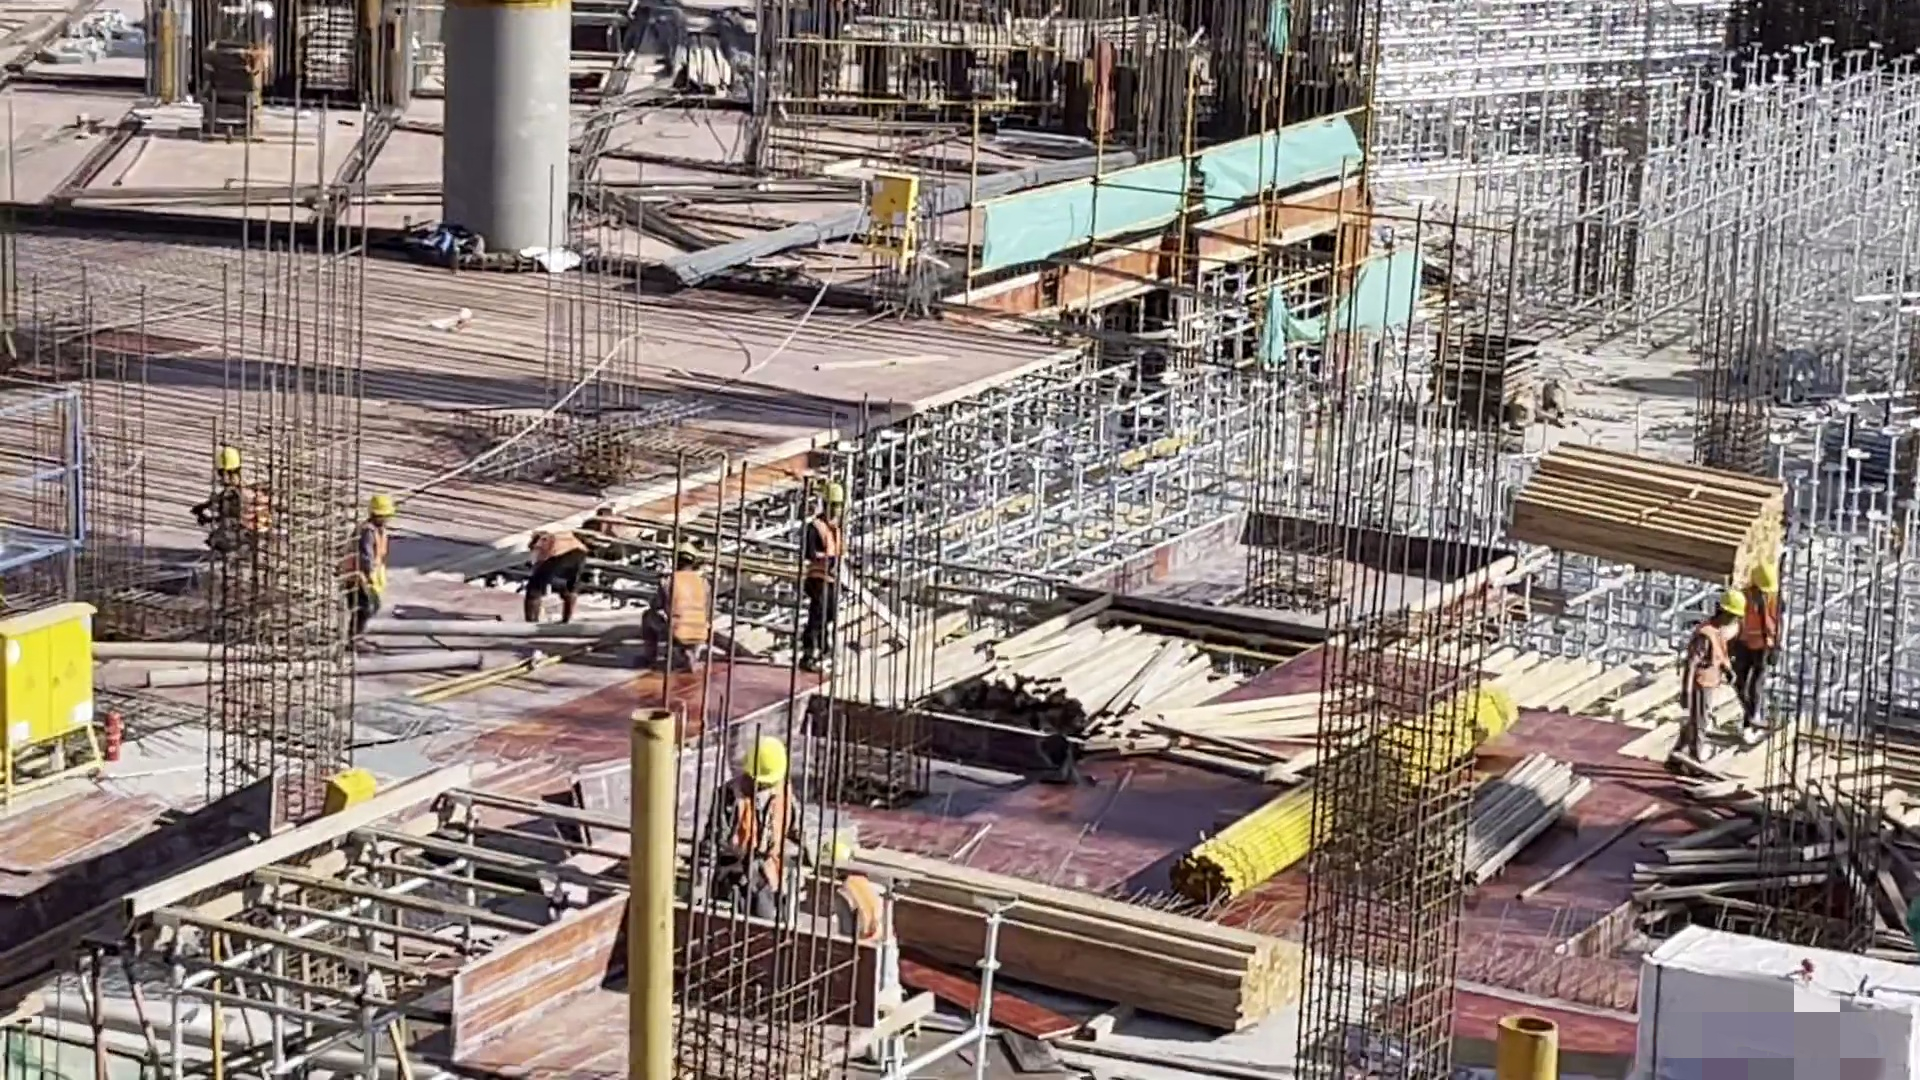ebox: (16, 623, 118, 756), (855, 163, 923, 292)
helmet: (726, 723, 801, 789), (207, 430, 248, 477), (365, 483, 405, 523), (821, 469, 856, 514), (1750, 561, 1786, 592), (670, 533, 704, 560), (1714, 581, 1741, 616)
person: (799, 832, 912, 1012), (724, 737, 813, 946), (646, 539, 730, 680), (1668, 594, 1729, 775), (197, 450, 273, 584), (792, 483, 853, 642), (324, 501, 400, 626), (520, 524, 585, 629), (1741, 554, 1776, 745)
vest: (722, 788, 793, 873), (822, 877, 897, 939), (666, 572, 712, 642), (806, 518, 855, 578), (1731, 585, 1778, 647), (1687, 627, 1720, 678), (529, 528, 580, 553)
wood: (1518, 437, 1763, 574)
